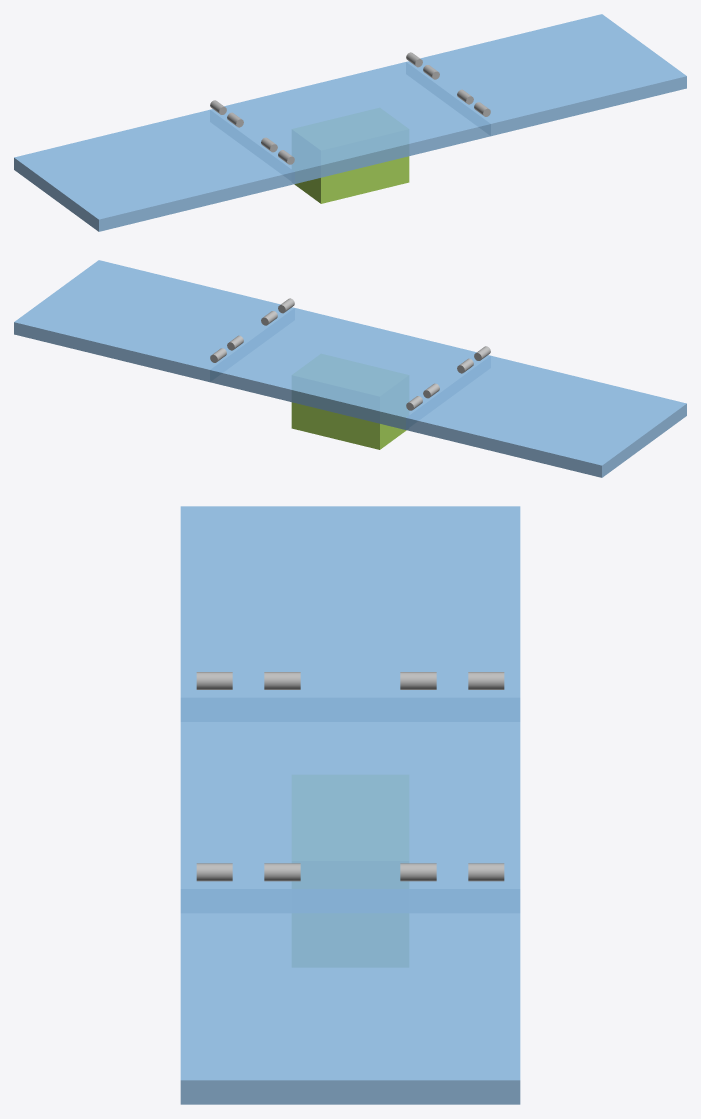
Rendered from bridge_model.gltf.
The picture shows the model from 3 angles, top to bottom: view 1: azimuth 30°, elevation 25°; view 2: azimuth 150°, elevation 25°; view 3: azimuth 270°, elevation 25°; orthographic projection. The views are drawn at different scales.
Visible parts, largest first — view 1: Component_2_Left_Bridge, Component_4_Right_Bridge, Component_3_Middle_Bridge, Middle_Support; view 2: Component_2_Left_Bridge, Component_4_Right_Bridge, Component_3_Middle_Bridge, Middle_Support; view 3: Component_4_Right_Bridge, Component_3_Middle_Bridge, Component_2_Left_Bridge.
Boxes of the visible parts, box(x1,y1,x2,y2) form: Component_2_Left_Bridge: box(14, 109, 294, 231); Component_4_Right_Bridge: box(406, 14, 686, 136); Component_3_Middle_Bridge: box(210, 62, 490, 183); Middle_Support: box(294, 156, 409, 203); Component_2_Left_Bridge: box(406, 355, 686, 477); Component_4_Right_Bridge: box(14, 260, 294, 382); Component_3_Middle_Bridge: box(210, 308, 490, 429); Middle_Support: box(291, 402, 406, 449); Component_4_Right_Bridge: box(180, 889, 520, 1104); Component_3_Middle_Bridge: box(180, 697, 520, 888); Component_2_Left_Bridge: box(180, 506, 520, 697).
Size of what is drawn, in the model's own units: 3 by 0.38 by 0.75.
